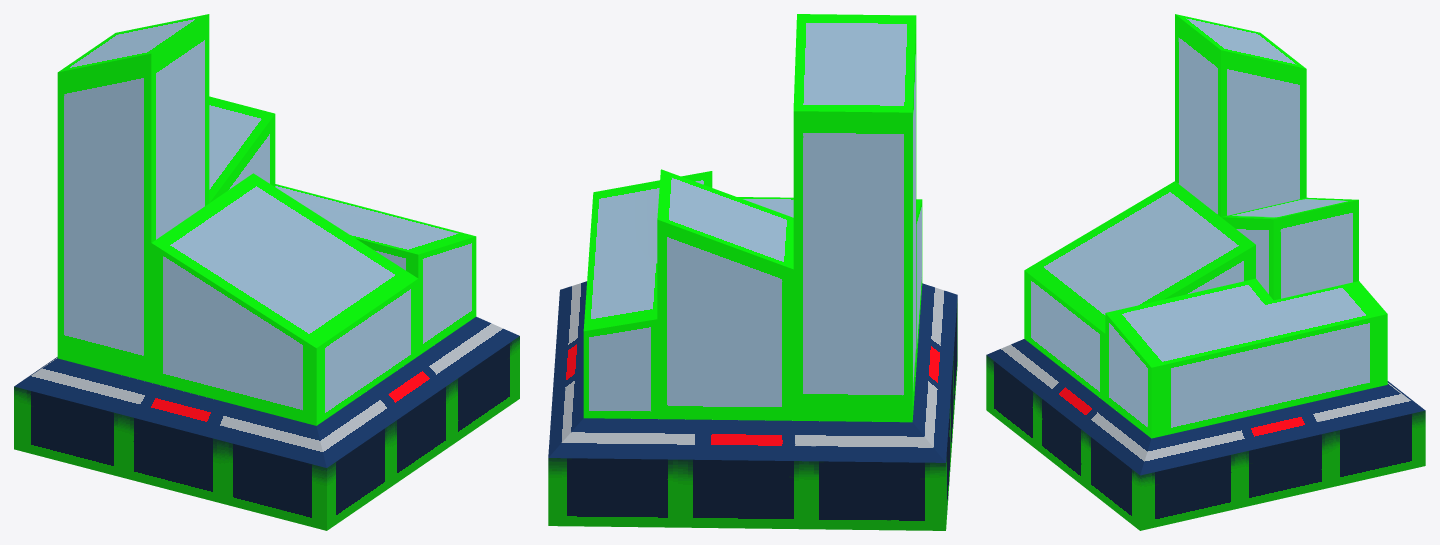
File: ps2_save-icons_timesplitters-2saved-maps.glb
The picture shows the model from 3 angles, left to right: view 1: azimuth 30°, elevation 25°; view 2: azimuth 150°, elevation 25°; view 3: azimuth 270°, elevation 25°; orthographic projection. The views are drawn at different scales.
Parts seen in each view (by area): view 1: TimeSplitters 2(Saved Maps); view 2: TimeSplitters 2(Saved Maps); view 3: TimeSplitters 2(Saved Maps).
Boxes of the visible parts, x1=… form: TimeSplitters 2(Saved Maps): x1=14, y1=14, x2=519, y2=530; TimeSplitters 2(Saved Maps): x1=548, y1=14, x2=957, y2=530; TimeSplitters 2(Saved Maps): x1=986, y1=14, x2=1425, y2=530.
Size of the model in its own units: 4.87 by 4.48 by 4.87.
Materials: 1 (1 with a texture image).
